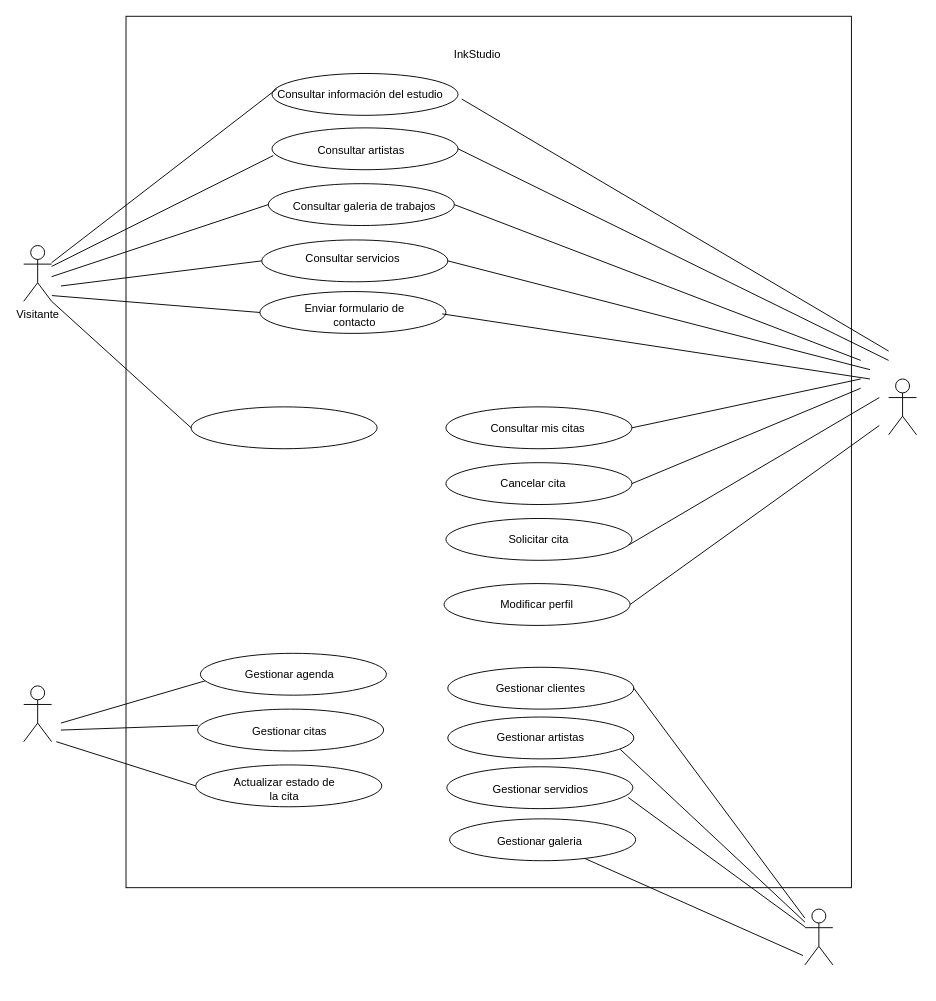
This 936x1001 diagram has some shape labels left out. Here are the shapes that lost their labels. From the top down, the box of each, then its label:
(888, 378, 917, 435): Cliente
(190, 406, 377, 449): Registrarse
(23, 685, 52, 742): Artista
(804, 908, 833, 965): Administrador
